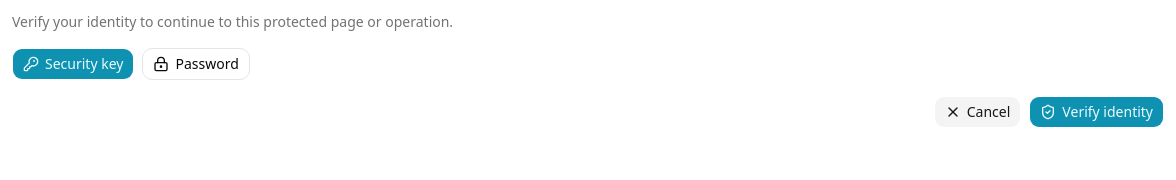
Scenario: SudoConfirmation › handles a canceled authenticator prompt
Click the button "Verify identity". click: (1097, 112)
box: x1=1029 y1=96 x2=1164 y2=128
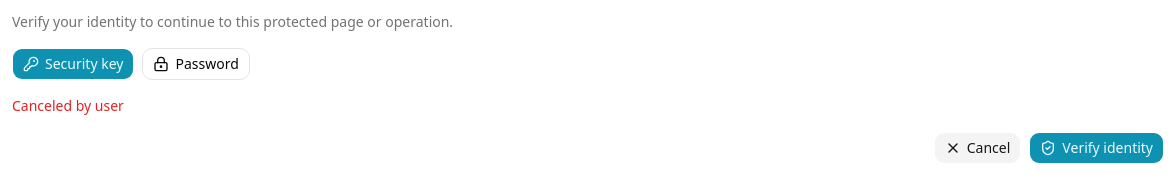
Expected: the message reads "Canceled by user", x1=12 y1=96 x2=124 y2=115
